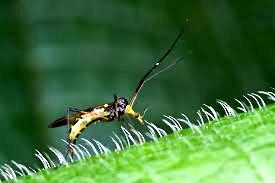Helopeltis-insect: (48, 94, 148, 147)
